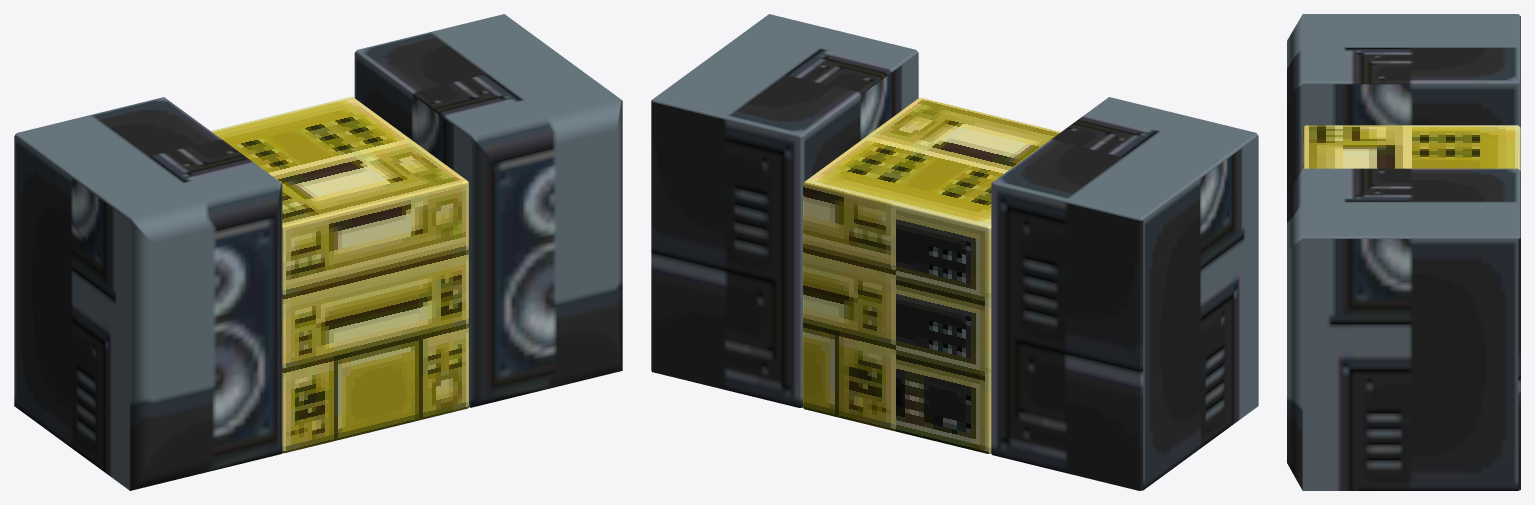
File: int_msc_good.dae
3 views of the same model, side by side, from view 1: azimuth 30°, elevation 25°; view 2: azimuth 150°, elevation 25°; view 3: azimuth 270°, elevation 25° (orthographic). The views are drawn at different scales.
Visible parts, largest first — view 1: int_msc_good; view 2: int_msc_good; view 3: int_msc_good.
Boxes of the visible parts, x1,y1,x2,y2 form: int_msc_good: (14, 14, 622, 490); int_msc_good: (651, 14, 1258, 490); int_msc_good: (1287, 14, 1520, 490).
Bounding box in the file's own units: 54.4 × 28.8 × 24.
Materials: 3 (3 with a texture image).
